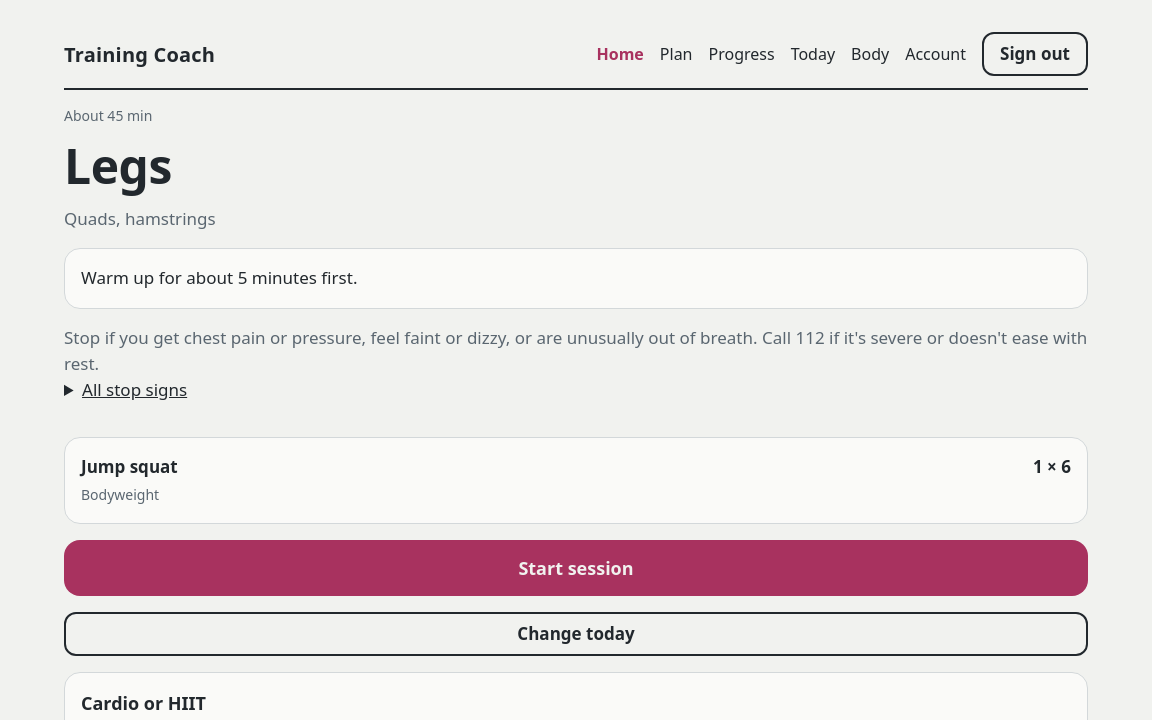
Test: Rest on the optional rest day says it counts as done
This screenshot has width=1152, height=720.
Click the button "Change today" at [576, 634], box [64,612,1088,656]
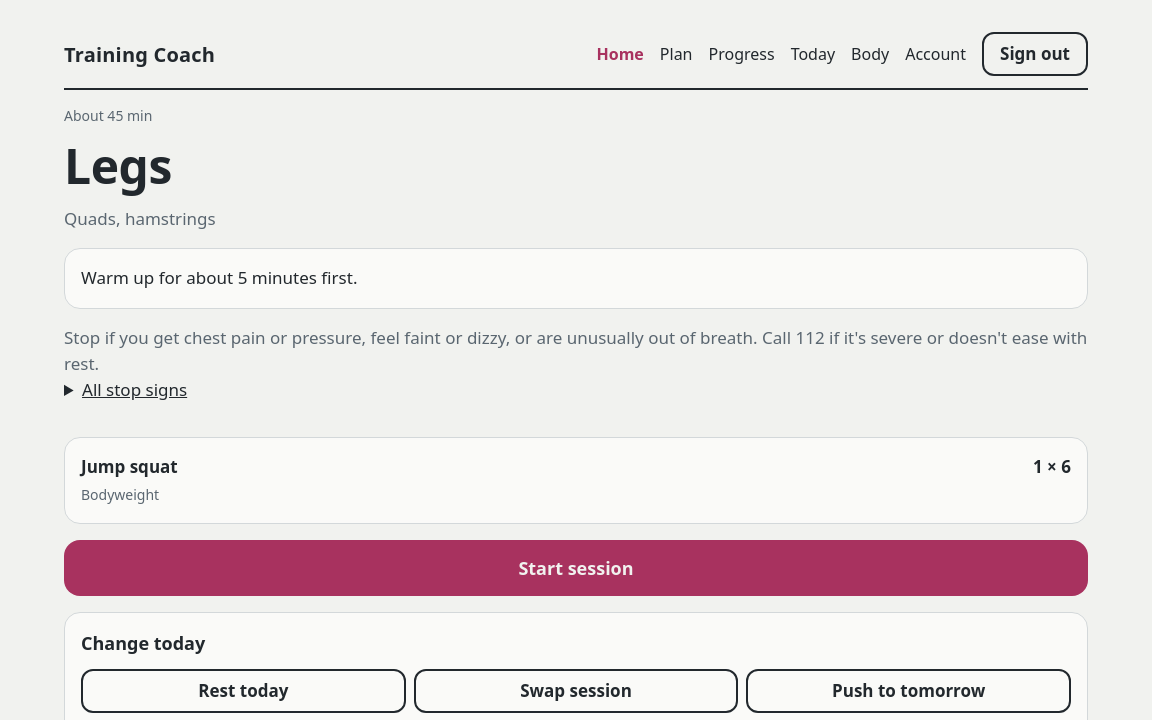
Click the button "Rest today" at [243, 691], box [81,669,406,713]
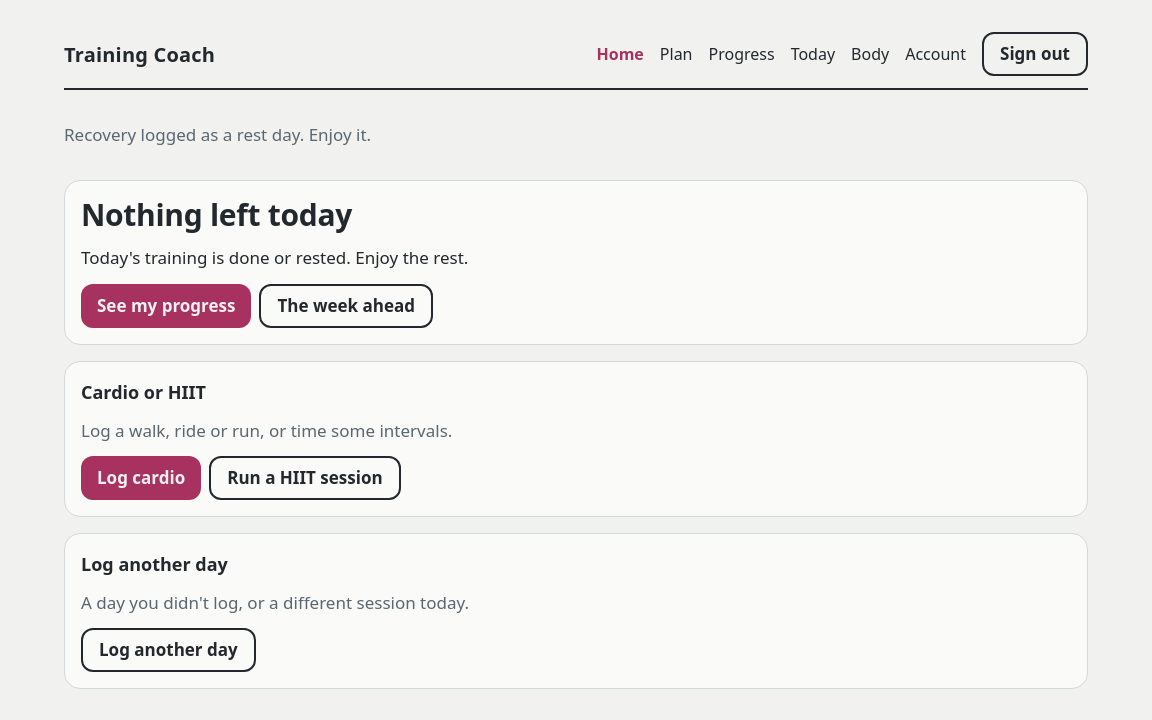
Expected: the text "Recovery logged as a rest day. Enjoy it." is shown, [64,123,371,146]
